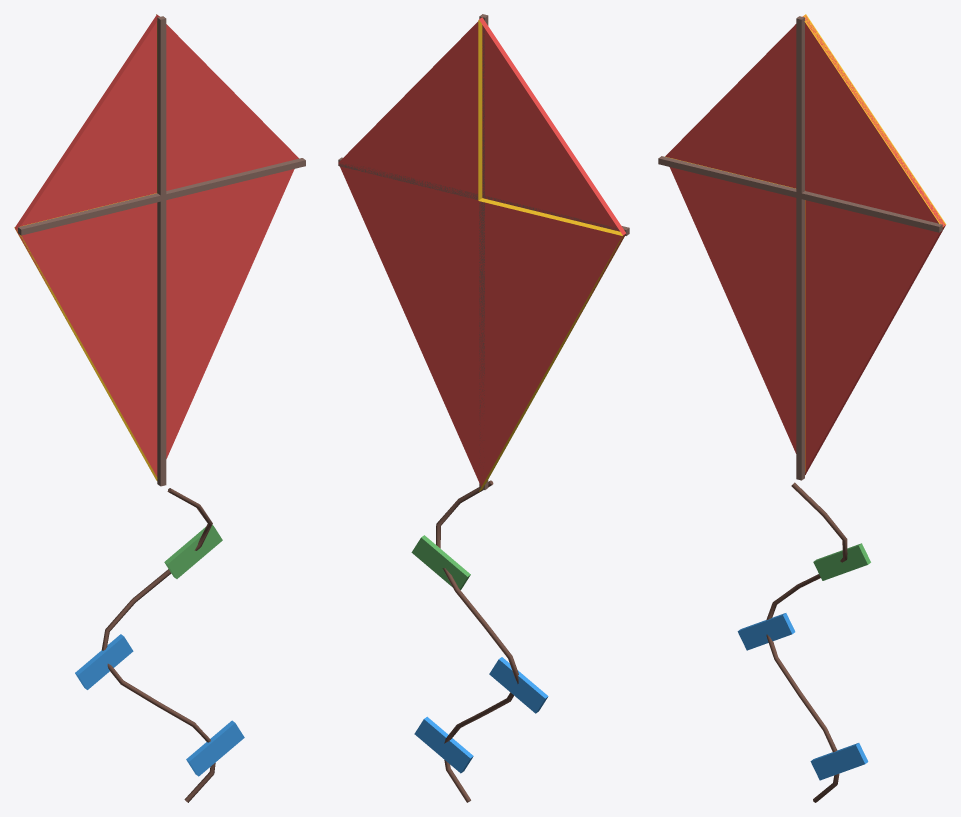
The model's file is kite.glb.
3 renders of one model, left to right at view 1: azimuth 30°, elevation 25°; view 2: azimuth 150°, elevation 25°; view 3: azimuth 330°, elevation 25°, orthographic. The views are drawn at different scales.
Visible parts, largest first — view 1: kite; view 2: kite; view 3: kite.
Part boxes in pixels (x1=…): kite: x1=14, y1=14, x2=305, y2=802; kite: x1=338, y1=14, x2=629, y2=802; kite: x1=658, y1=14, x2=946, y2=802.
Bounding box in the file's own units: 1.5 × 3.96 × 0.2235.
